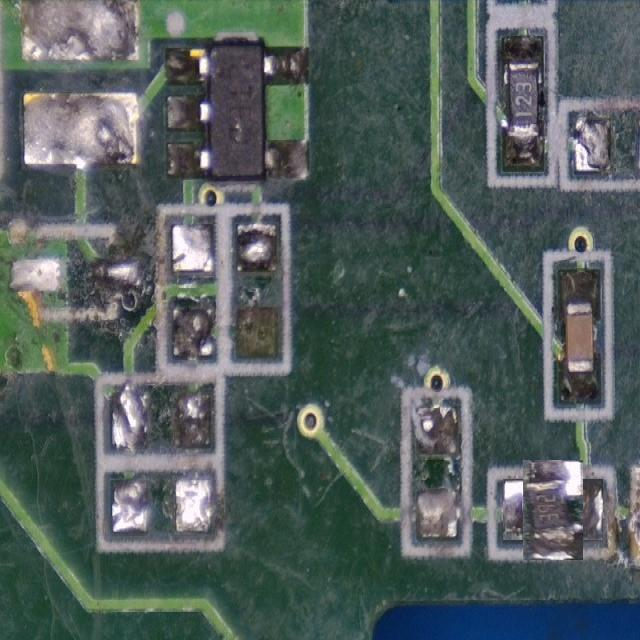Incorrect_installation: (523, 460, 582, 560)
